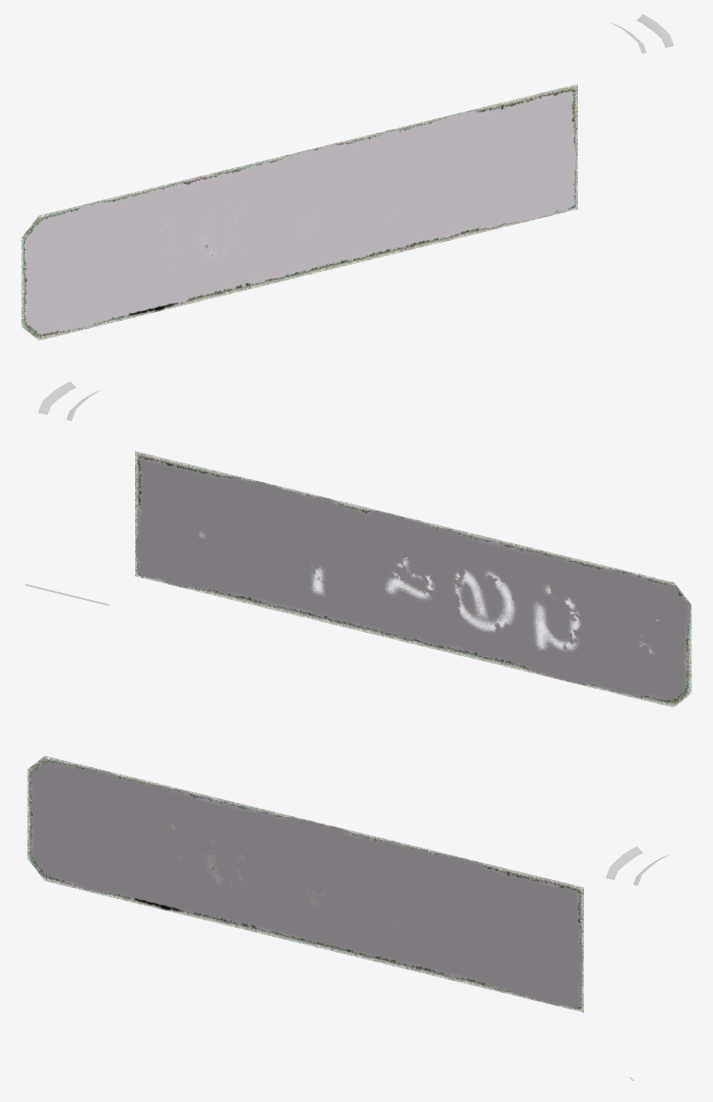
File: Neon_Train_Station_JP.glb
3 views of the same model, one above another, from view 1: azimuth 30°, elevation 25°; view 2: azimuth 150°, elevation 25°; view 3: azimuth 330°, elevation 25° (orthographic).
Visible parts, largest first — view 1: unnamed; view 2: unnamed; view 3: unnamed.
Boxes of the visible parts, left/top/right/bottom form: unnamed: left=21, top=15, right=673, bottom=340; unnamed: left=25, top=382, right=691, bottom=706; unnamed: left=27, top=756, right=665, bottom=1080.
Bounding box in the file's own units: 4.76 × 1.47 × 0.4708.
Materials: 1 (1 with a texture image).
